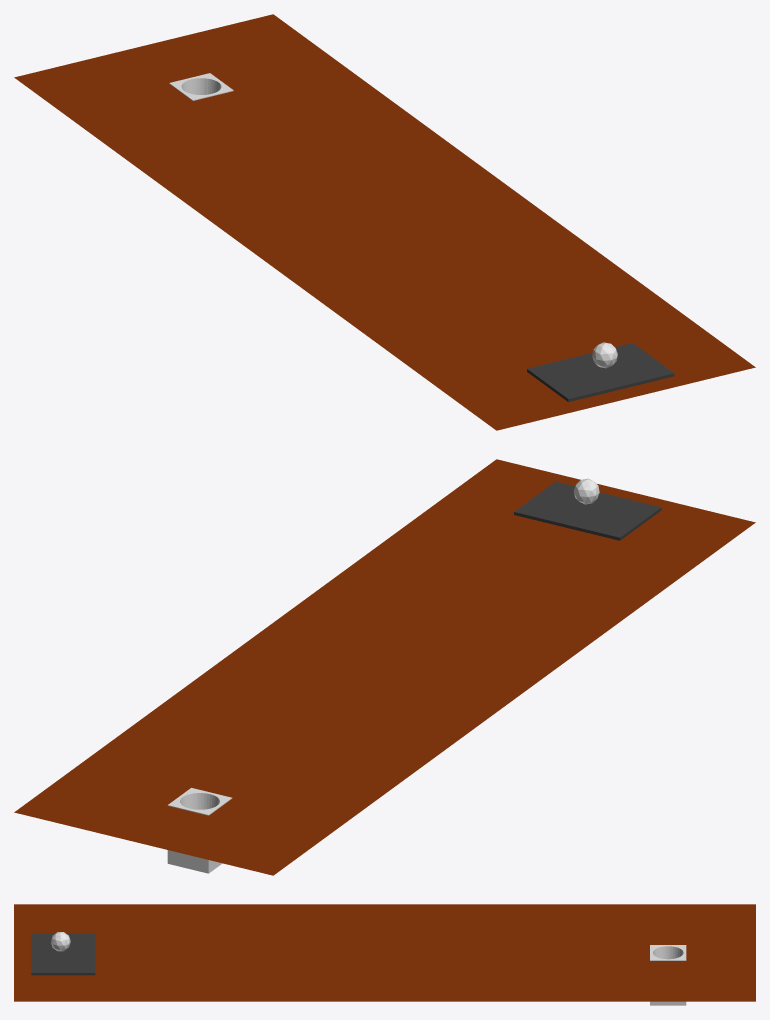
File: boilerplate_level_10.glb
3 renders of one model, top to bottom at view 1: azimuth 30°, elevation 25°; view 2: azimuth 150°, elevation 25°; view 3: azimuth 270°, elevation 25°, orthographic. The views are drawn at different scales.
Visible parts, largest first — view 1: Plane, Start, Cup; view 2: Plane, Start, Cup; view 3: Plane, Start, Cup, Ball.
Boxes of the visible parts, box(x1,y1,x2,y2) form: Plane: box(14, 14, 755, 430); Start: box(527, 343, 674, 401); Cup: box(169, 73, 233, 100); Plane: box(14, 459, 755, 875); Start: box(514, 481, 661, 540); Cup: box(167, 788, 232, 873); Plane: box(14, 904, 755, 1001); Start: box(31, 933, 95, 975); Cup: box(650, 945, 686, 1005); Ball: box(50, 932, 70, 951).
Bounding box in the file's own units: 19.3 × 6.34 × 62.2.
